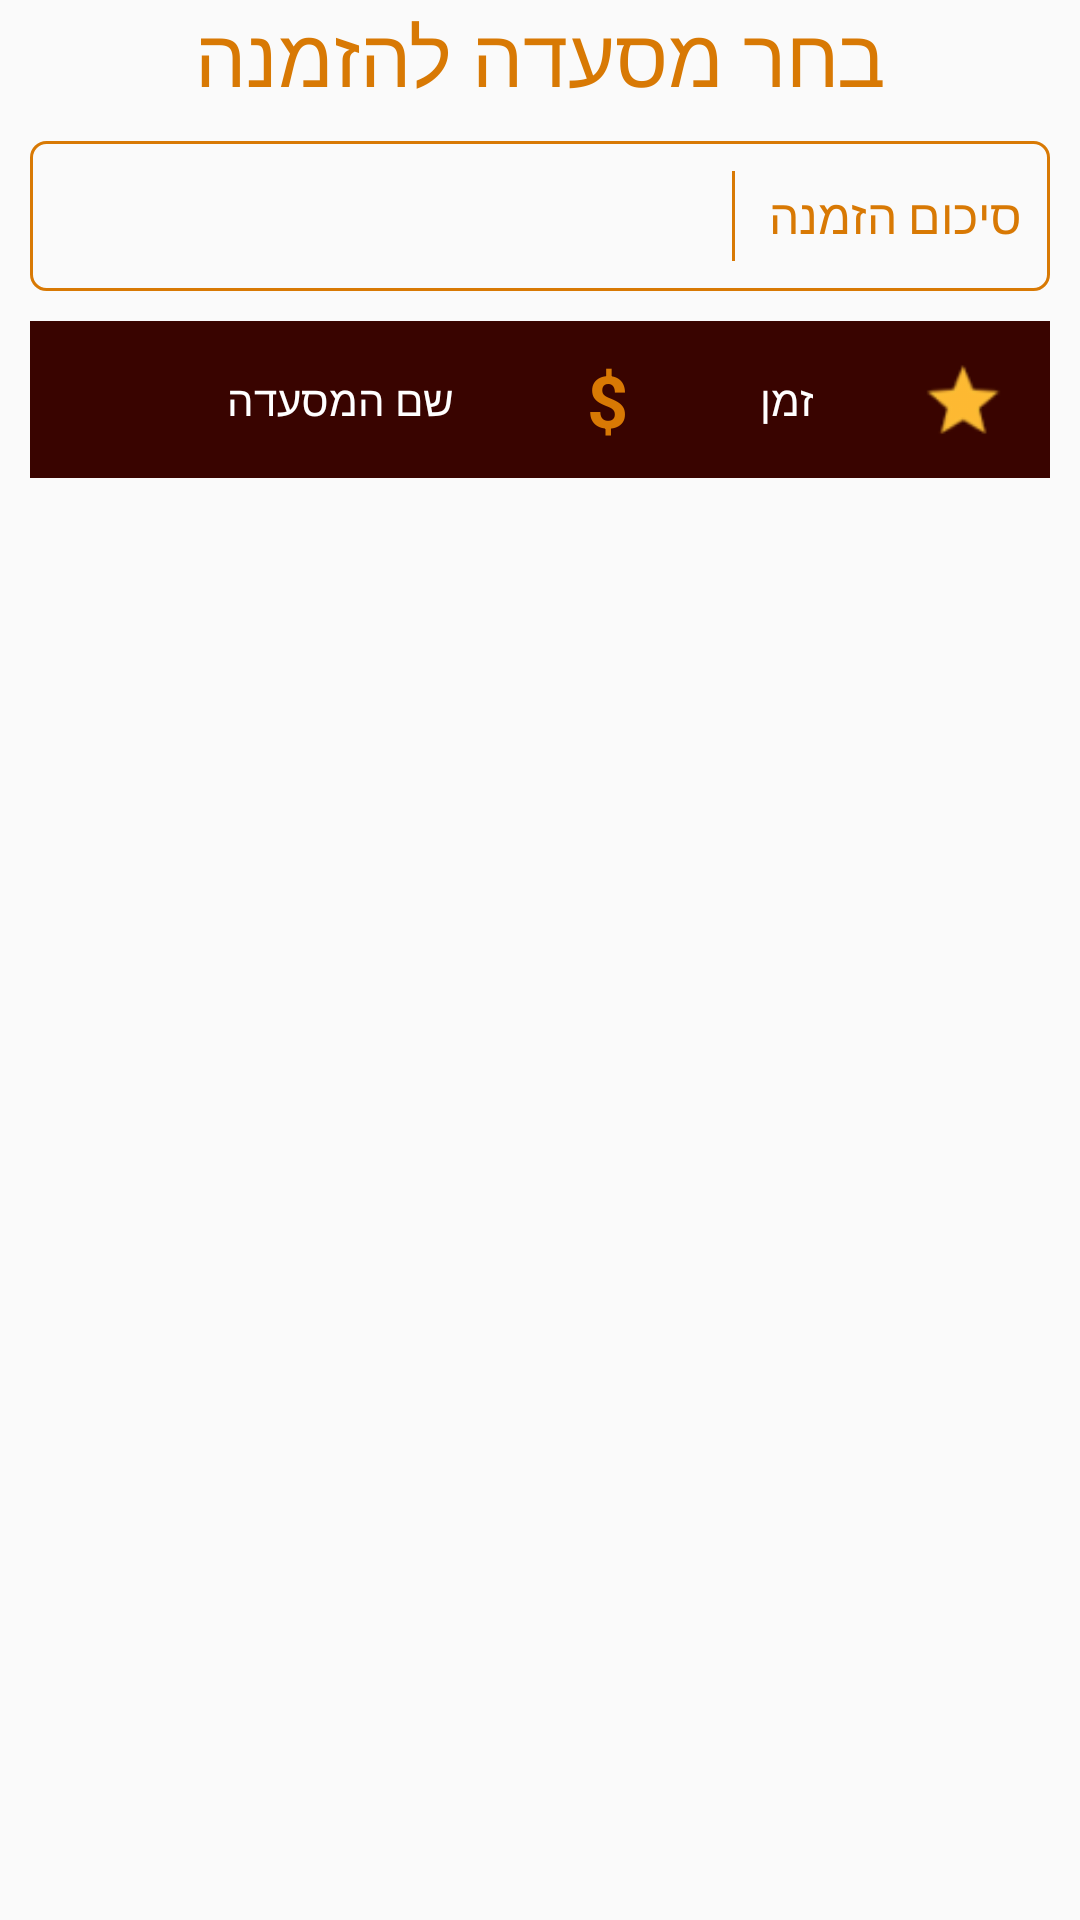

Where icons sit on this 1080w x 1920h app screen, as (x1, y1, x2, y2):
star: (928, 365, 999, 434)
